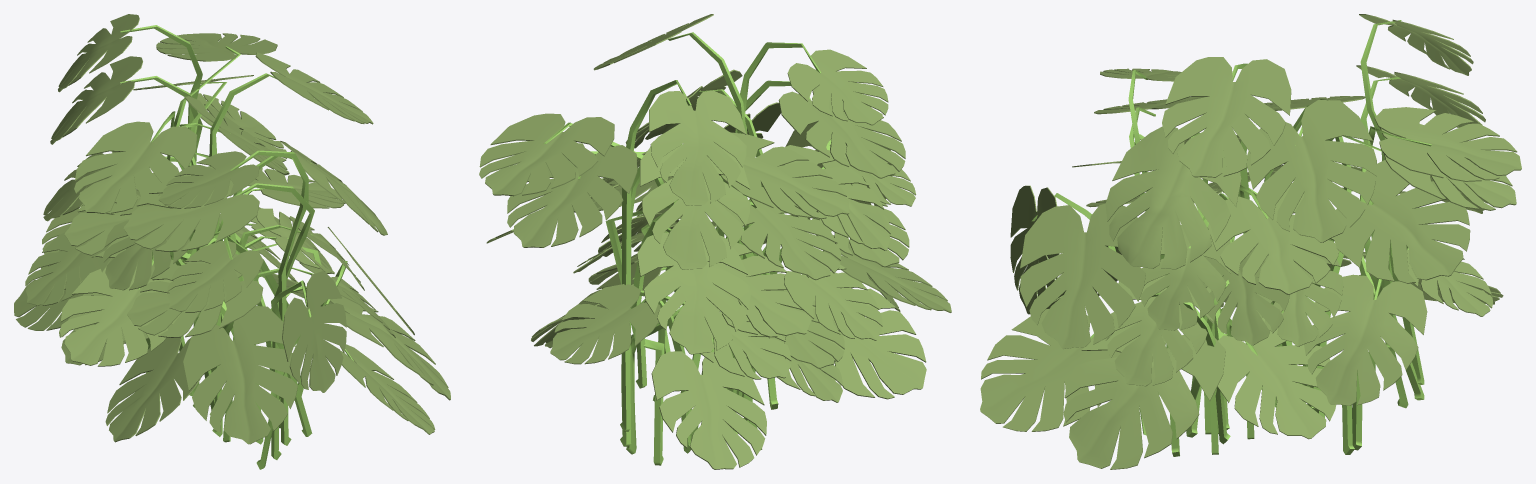
The model's file is Brooks_Fern_Monstera.fbx.
3 views of the same model, side by side, from view 1: azimuth 30°, elevation 25°; view 2: azimuth 150°, elevation 25°; view 3: azimuth 270°, elevation 25° (orthographic). The views are drawn at different scales.
Visible parts, largest first — view 1: Monstera_LOD0, Stem_LOD0; view 2: Monstera_LOD0, Stem_LOD0; view 3: Monstera_LOD0, Stem_LOD0.
Boxes of the visible parts, x1,y1,x2,y2 form: Monstera_LOD0: (14, 14, 450, 444); Stem_LOD0: (120, 25, 353, 469); Monstera_LOD0: (479, 14, 951, 469); Stem_LOD0: (544, 32, 831, 465); Monstera_LOD0: (980, 14, 1521, 469); Stem_LOD0: (1031, 20, 1431, 456).
Size of the model in its own units: 47.27 by 49.35 by 58.1.
